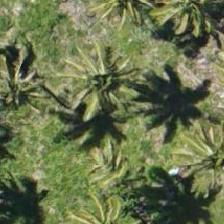coconut_tree: (58, 35, 148, 125), (0, 36, 59, 126)
